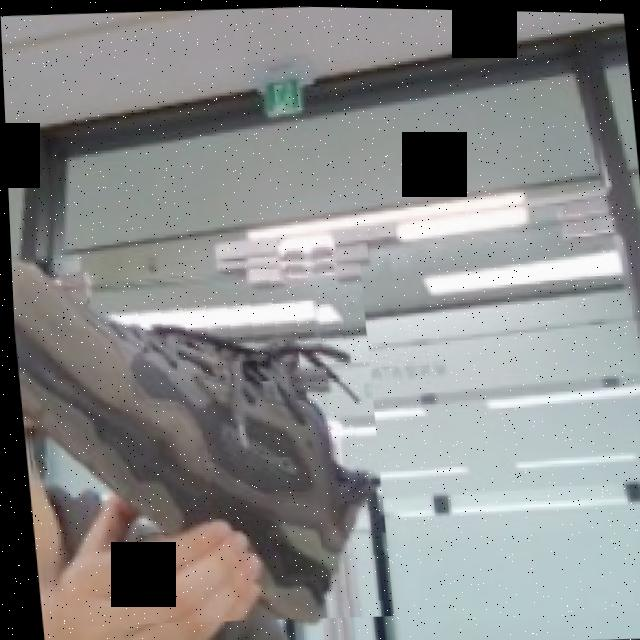shoe: (8, 239, 389, 632)
